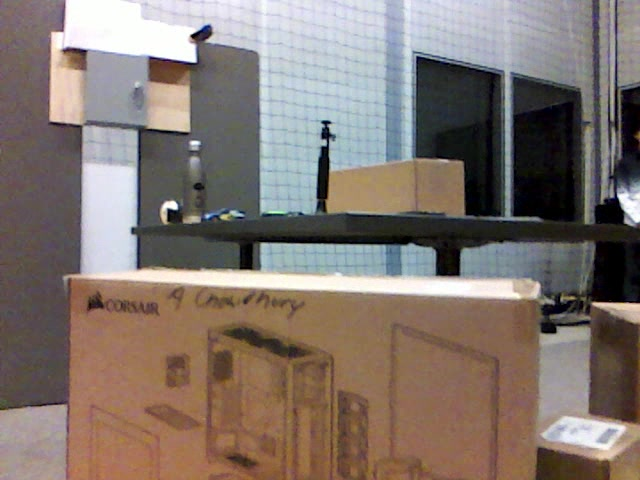box: (70, 266, 542, 480), (330, 159, 465, 214), (539, 411, 640, 477), (590, 300, 640, 412)
